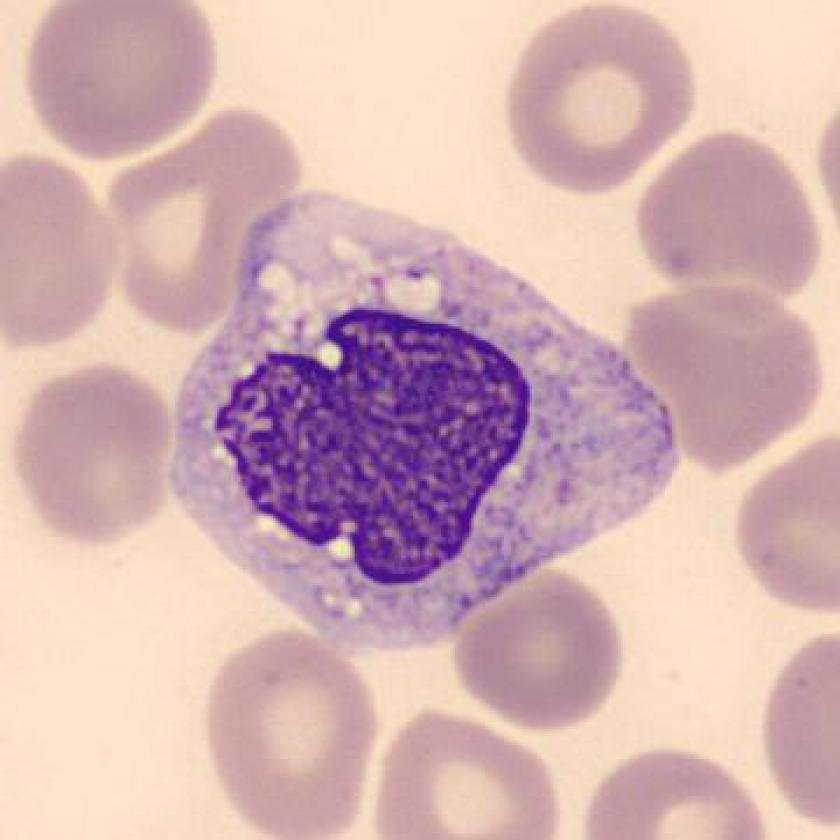monocyte: (151, 161, 697, 668)
